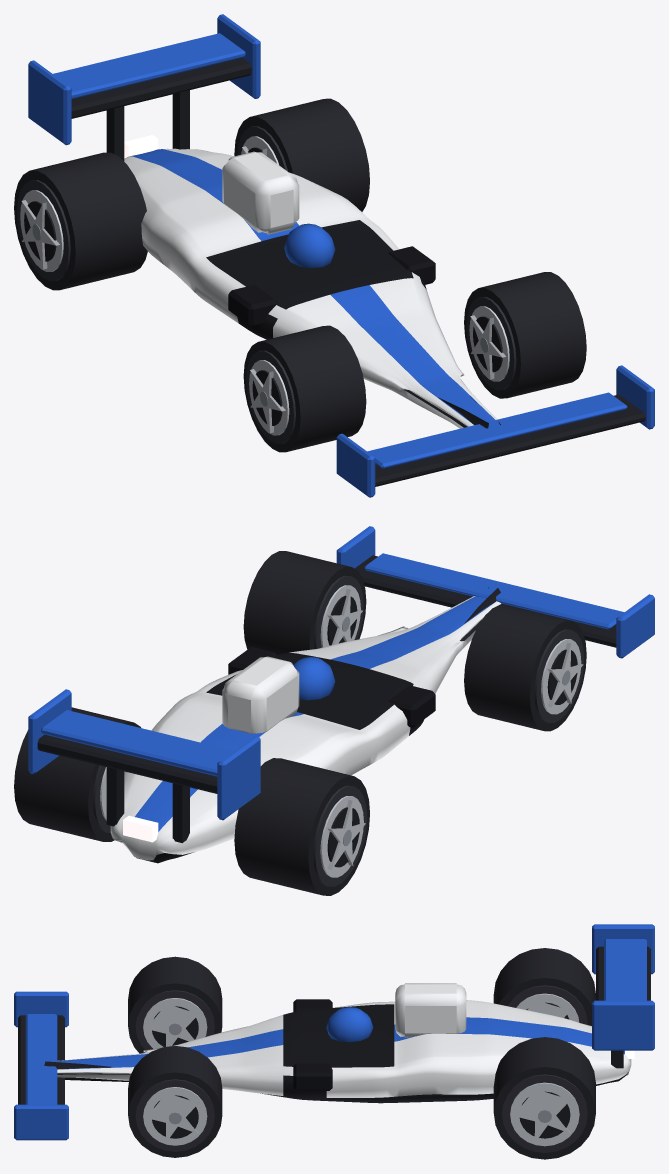
The model's file is racecar_white.glb.
3 renders of one model, top to bottom at view 1: azimuth 30°, elevation 25°; view 2: azimuth 150°, elevation 25°; view 3: azimuth 270°, elevation 25°, orthographic. The views are drawn at different scales.
Visible parts, largest first — view 1: body, wheel_rl, wheel_fr, wheel_fl, wheel_rr; view 2: body, wheel_rl, wheel_fl, wheel_fr, wheel_rr; view 3: body, wheel_rr, wheel_fr, wheel_fl, wheel_rl.
Boxes of the visible parts, box(x1,y1,x2,y2) form: body: box(28, 14, 654, 497); wheel_rl: box(14, 152, 147, 290); wheel_fr: box(464, 272, 586, 398); wheel_fl: box(243, 325, 366, 452); wheel_rr: box(234, 98, 369, 211); body: box(28, 526, 654, 863); wheel_rl: box(234, 758, 369, 895); wheel_fl: box(464, 604, 586, 731); wheel_fr: box(243, 551, 366, 654); wheel_rr: box(14, 707, 140, 841); body: box(14, 924, 654, 1140); wheel_rr: box(493, 1037, 595, 1159); wheel_fr: box(128, 1046, 222, 1157); wheel_fl: box(128, 956, 222, 1053); wheel_rl: box(493, 948, 595, 1025).
Size of the model in its own units: 2.36 by 1.2 by 5.09.
